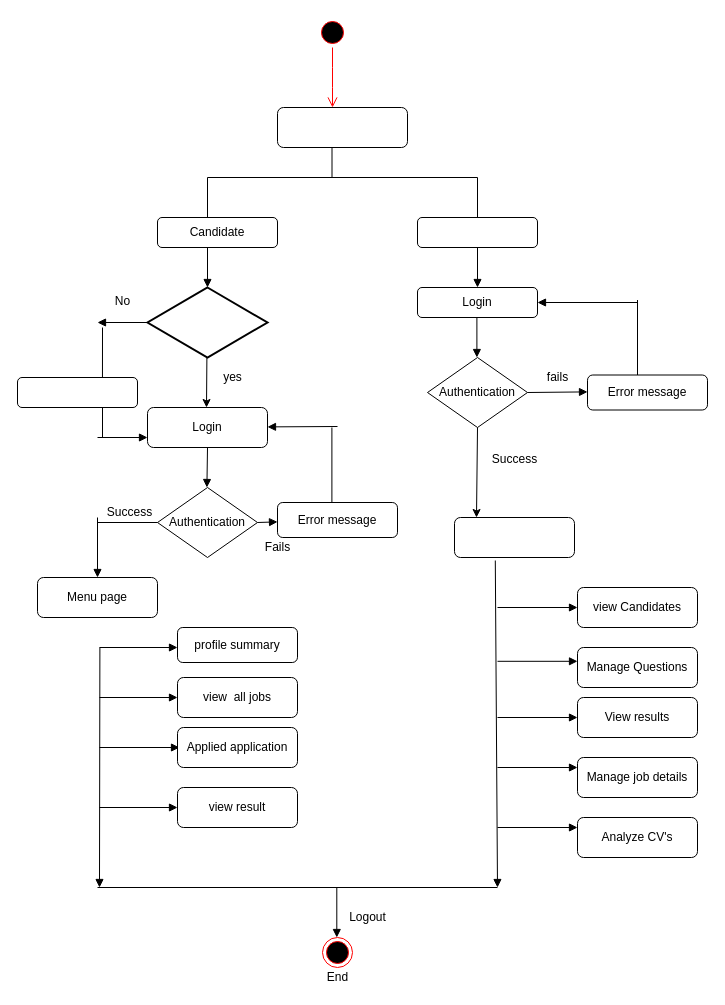
Some shapes in this 725 by 1005 pixel diagram are drawn without their labels. The centre of each missing label's shape, as x and y in pixels:
"Admin" belongs at (x=477, y=232).
"Admin Home" belongs at (x=514, y=537).
"Already Have an account?" belongs at (x=207, y=322).
"Register" belongs at (x=77, y=392).
"website Home Page" belongs at (x=342, y=127).
